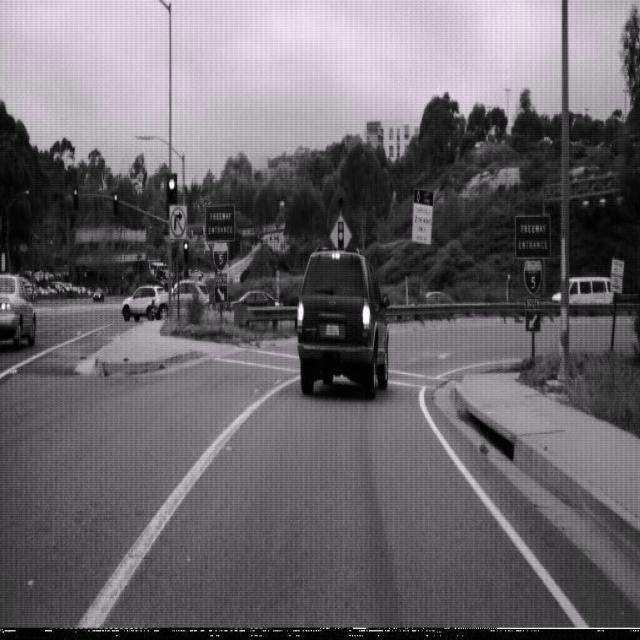noRightTurn: (169, 204, 187, 239)
